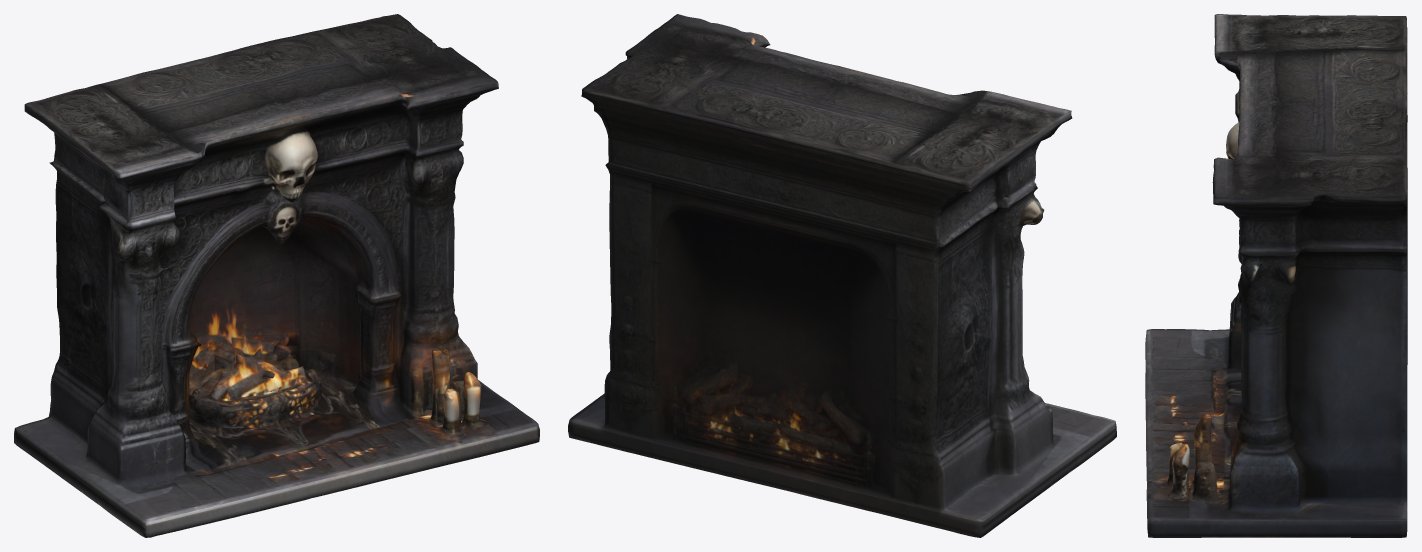
The model's file is Ornate_detailed_firep_0124124808_refine.fbx.
3 renders of one model, left to right at view 1: azimuth 30°, elevation 25°; view 2: azimuth 150°, elevation 25°; view 3: azimuth 270°, elevation 25°, orthographic. The views are drawn at different scales.
Parts seen in each view (by area): view 1: Mesh_0; view 2: Mesh_0; view 3: Mesh_0.
Boxes of the visible parts, x1,y1,x2,y2 form: Mesh_0: (14, 14, 539, 537); Mesh_0: (568, 14, 1116, 537); Mesh_0: (1145, 14, 1407, 537).
Size of the model in its own units: 200 by 165 by 115.
Materials: 1 (1 with a texture image).
